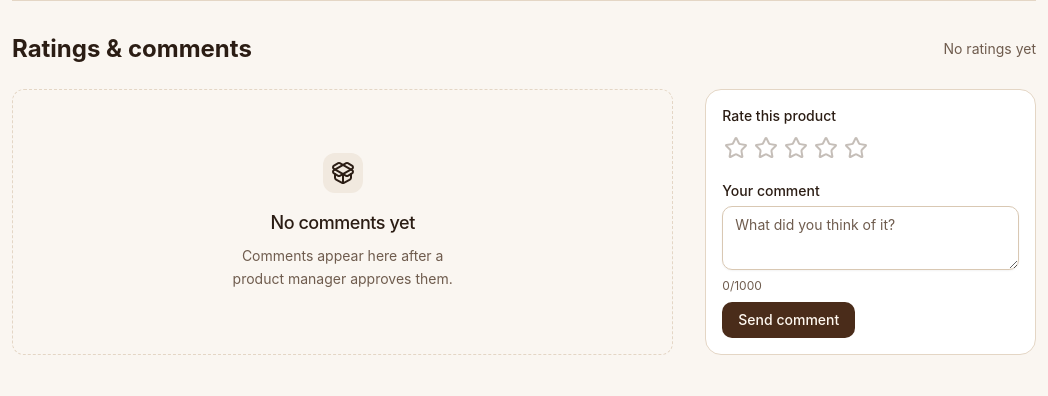
Scenario: ProductReviews gating › does not send an empty comment
Click the button with test id "send-comment" at {"x": 789, "y": 320}, box x1=722 y1=302 x2=855 y2=338
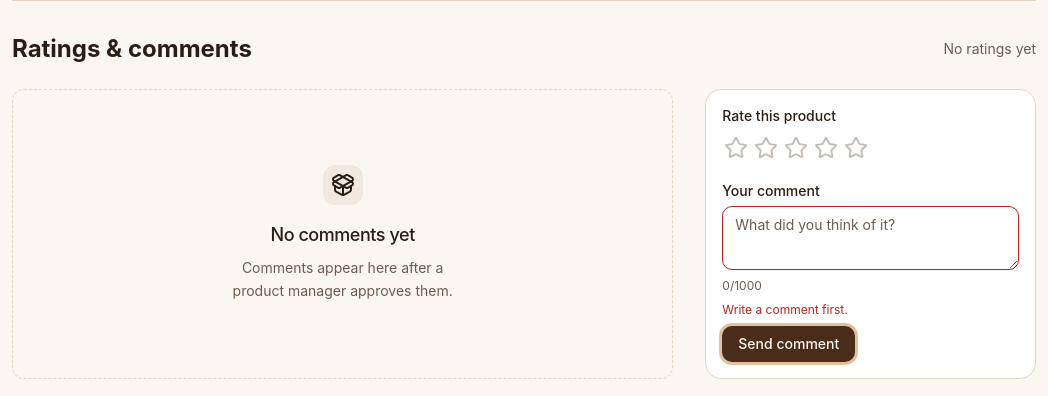
Result: the text "Write a comment first." is shown at x1=722 y1=302 x2=848 y2=317
